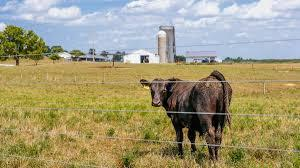cow: (139, 71, 233, 160)
